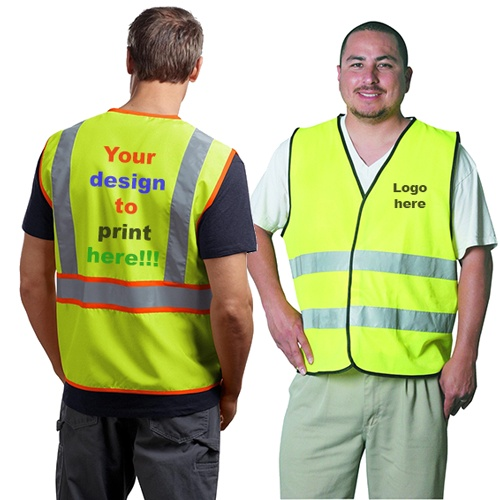person with partial safety: (35, 11, 241, 500), (270, 19, 471, 500)
safety vest: (46, 118, 241, 400), (286, 122, 458, 376)
